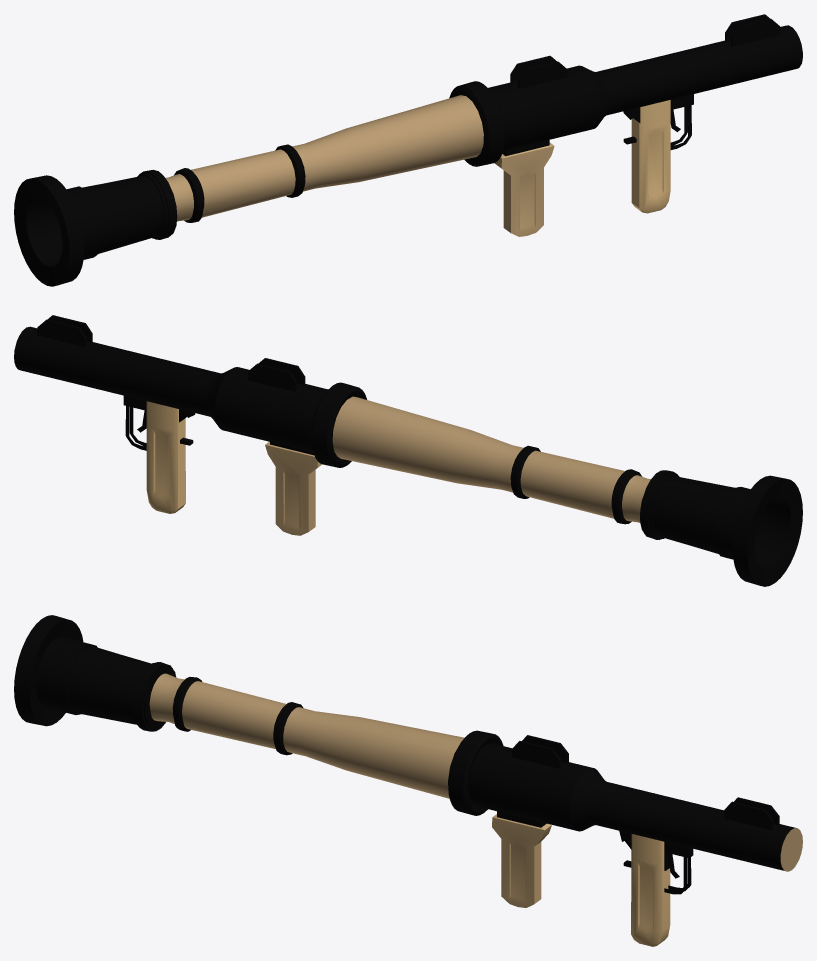
File: Bazooka.fbx
3 views of the same model, one above another, from view 1: azimuth 30°, elevation 25°; view 2: azimuth 150°, elevation 25°; view 3: azimuth 330°, elevation 25° (orthographic).
Visible parts, largest first — view 1: Cylinder.004; view 2: Cylinder.004; view 3: Cylinder.004.
Part boxes in pixels (box(x1,y1,x2,y2)): Cylinder.004: box(14, 14, 802, 286); Cylinder.004: box(14, 315, 802, 586); Cylinder.004: box(14, 615, 802, 946).
Size of the model in its own units: 37.16 by 64.86 by 290.
